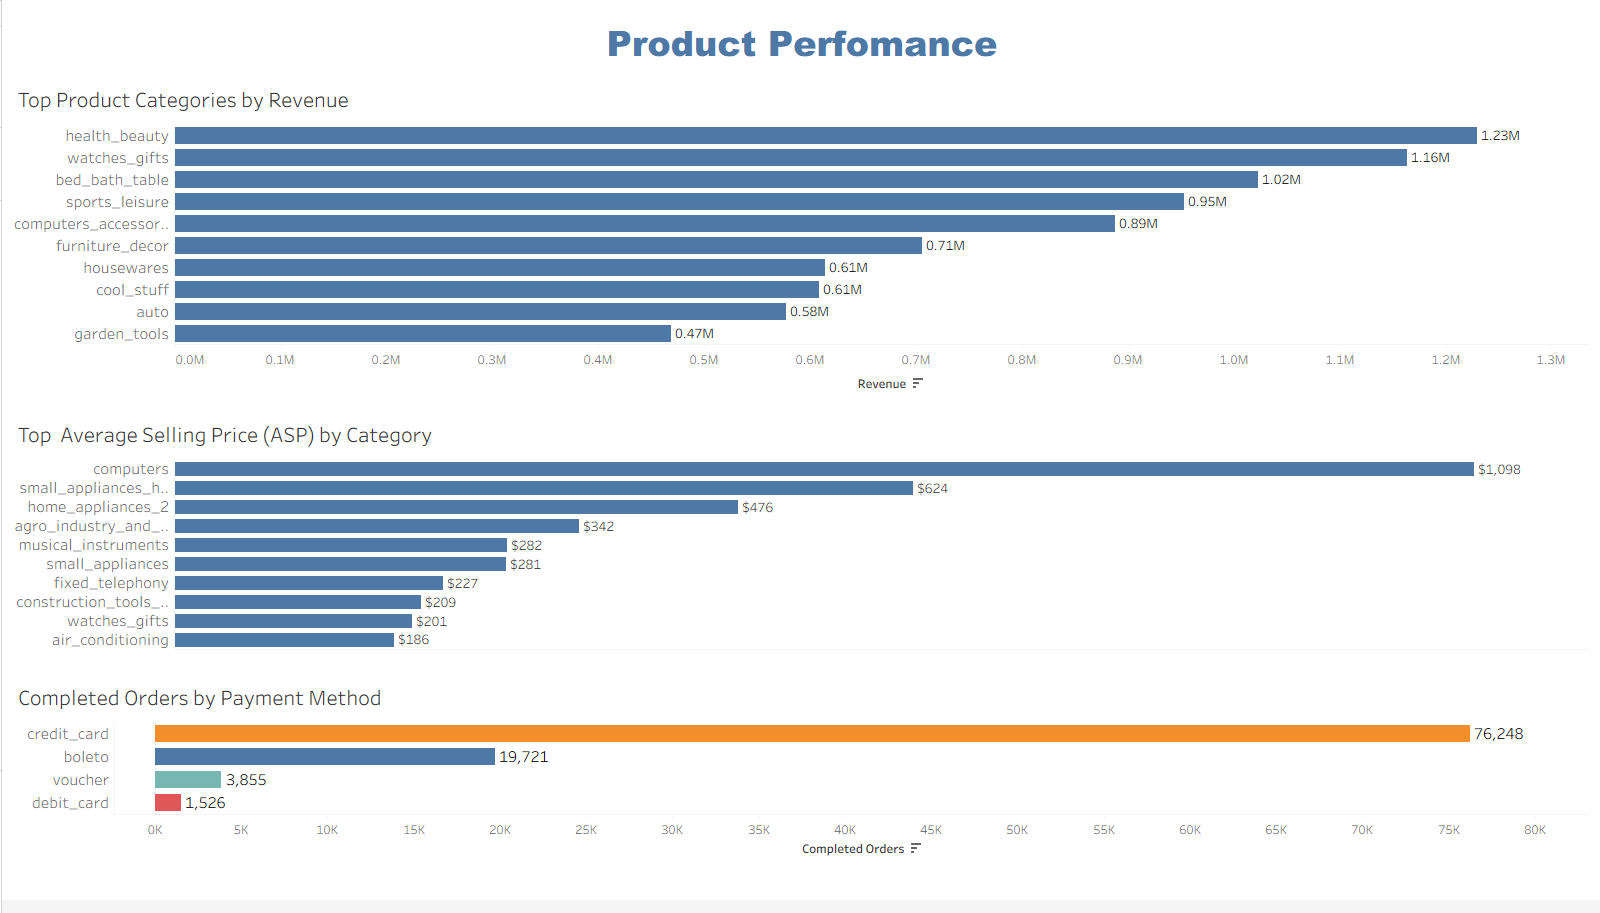

The page's visual inventory and layout, read from the dashboard file:
{"tool":"tableau","page":{"name":"Product Performance","canvas":[1600,900],"ordinal":1},"visuals":[{"type":"text","box":[8,8,1584,69]},{"type":"worksheet","title":"Top Product Categories by Revenue","mark":"Automatic","rows":["product_category_name_english"],"cols":["price"],"box":[8,77,1584,335]},{"type":"worksheet","title":"Top  Average Selling Price (ASP) by Category","mark":"Bar","rows":["product_category_name_english"],"cols":["price"],"box":[8,412,1584,263]},{"type":"worksheet","title":"Completed Orders by Payment Method","mark":"Bar","rows":["payment_type"],"cols":["Calculation_2047860859650049"],"box":[8,675,1584,217]}]}

Visuals, with their boxes in screenshot pixels (x1, y1, x2, y2), scaled from the page's 1600x900 canvas onto the 1600x913 screenshot:
text: <box>8,8,1592,78</box>
"Top Product Categories by Revenue" worksheet: <box>8,78,1592,418</box>
"Top  Average Selling Price (ASP) by Category" worksheet (Bar marks): <box>8,418,1592,685</box>
"Completed Orders by Payment Method" worksheet (Bar marks): <box>8,685,1592,905</box>
